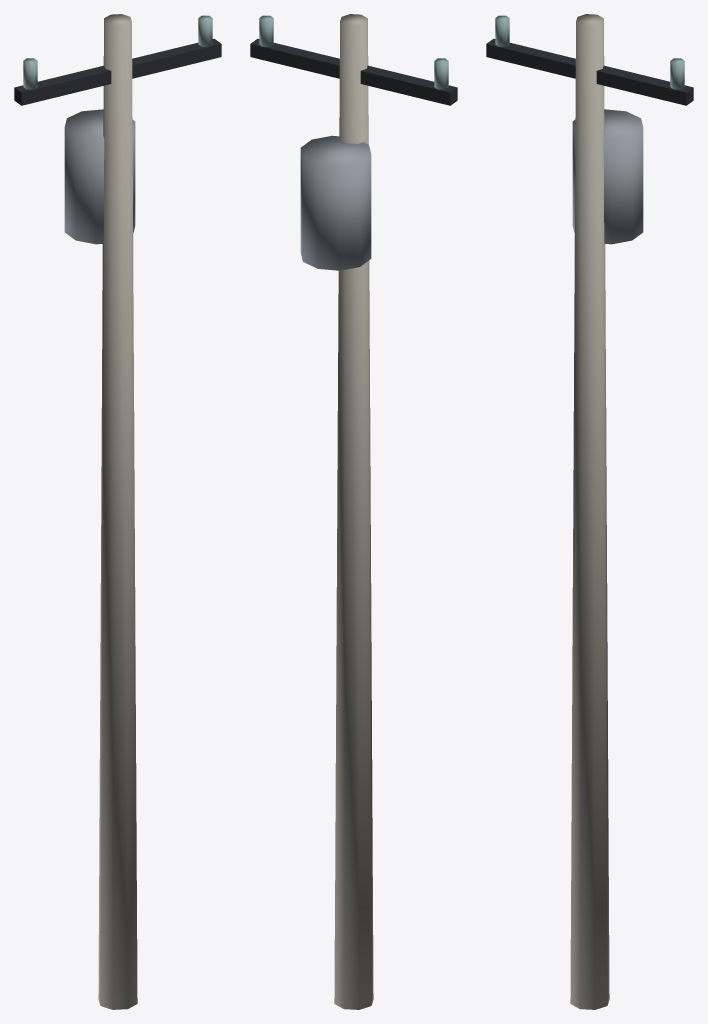
File: prop_tiang_listrik.glb
3 views of the same model, side by side, from view 1: azimuth 30°, elevation 25°; view 2: azimuth 150°, elevation 25°; view 3: azimuth 330°, elevation 25° (orthographic).
Visible parts, largest first — view 1: tiang_listrik; view 2: tiang_listrik; view 3: tiang_listrik.
Boxes of the visible parts, x1=… form: tiang_listrik: x1=14, y1=14, x2=221, y2=1009; tiang_listrik: x1=250, y1=14, x2=457, y2=1009; tiang_listrik: x1=486, y1=14, x2=693, y2=1009.
Bounding box in the file's own units: 1.6 × 7.5 × 0.64.
